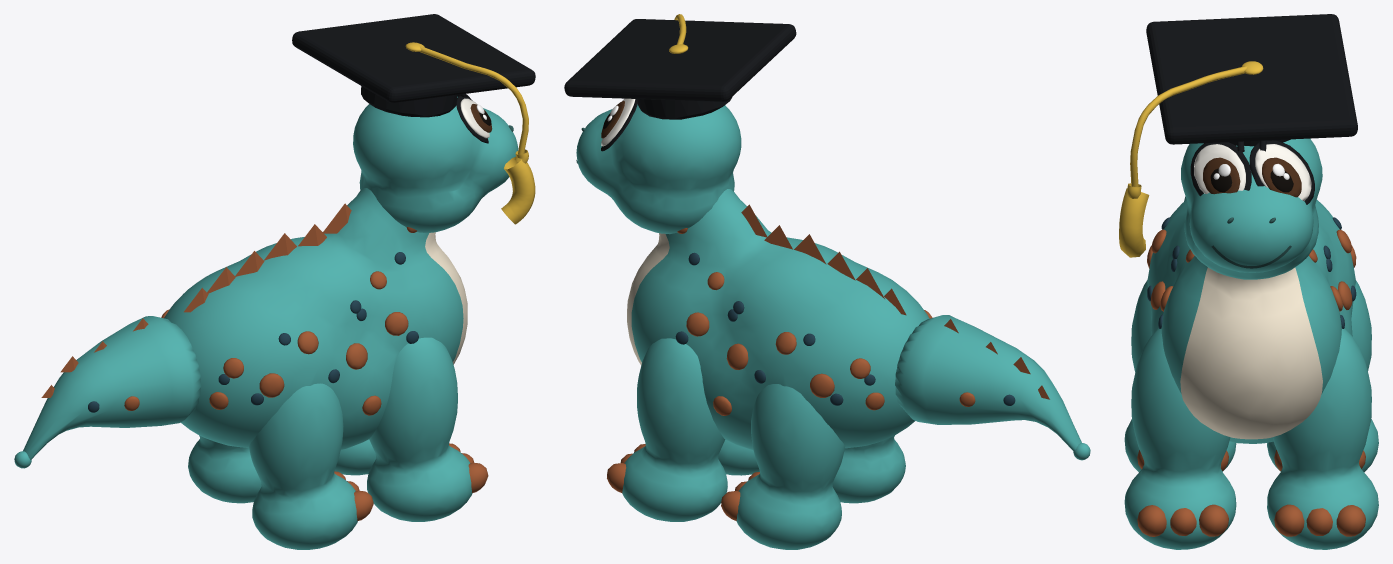
The model's file is cdutdino-guide.glb.
3 renders of one model, left to right at view 1: azimuth 30°, elevation 25°; view 2: azimuth 150°, elevation 25°; view 3: azimuth 270°, elevation 25°, orthographic. The views are drawn at different scales.
Parts seen in each view (by area): view 1: body sculpt, head sculpt, soft leg, tapered tail, soft leg.002, square academic cap, soft leg.003, cap crown, tassel skirt, gold cord, ivory front, soft leg.001; view 2: body sculpt, head sculpt, soft leg.001, tapered tail, square academic cap, soft leg.003, soft leg.002, cap crown, ivory front, soft leg; view 3: square academic cap, ivory front, soft leg, soft leg.001, head sculpt, body sculpt, soft leg.003, soft leg.002, tassel skirt, gold cord, eye white.001, eye white (+11 smaller).
Part boxes in pixels (box(x1,y1,x2,y2)): body sculpt: box(164, 188, 463, 449); head sculpt: box(353, 96, 518, 233); soft leg: box(367, 337, 472, 521); tapered tail: box(23, 316, 201, 459); soft leg.002: box(249, 383, 357, 549); square academic cap: box(292, 14, 535, 103); soft leg.003: box(188, 435, 261, 503); cap crown: box(361, 86, 457, 117); tassel skirt: box(501, 156, 535, 224); gold cord: box(419, 45, 528, 154); ivory front: box(425, 232, 467, 364); soft leg.001: box(334, 439, 376, 475); body sculpt: box(631, 189, 929, 450); head sculpt: box(576, 104, 741, 234); soft leg.001: box(622, 338, 727, 521); tapered tail: box(895, 315, 1081, 451); square academic cap: box(564, 19, 796, 101); soft leg.003: box(736, 384, 845, 549); soft leg.002: box(832, 435, 905, 503); cap crown: box(637, 96, 732, 119); ivory front: box(627, 233, 669, 365); soft leg: box(718, 439, 759, 475); square academic cap: box(1146, 14, 1357, 144); ivory front: box(1180, 267, 1322, 439); soft leg: box(1124, 328, 1236, 549); soft leg.001: box(1267, 328, 1378, 549); head sculpt: box(1181, 138, 1322, 279); body sculpt: box(1147, 200, 1355, 443); soft leg.003: box(1267, 280, 1378, 472); soft leg.002: box(1124, 280, 1236, 471); tassel skirt: box(1119, 188, 1149, 257); gold cord: box(1130, 66, 1247, 186); eye white.001: box(1255, 144, 1311, 200); eye white: box(1194, 144, 1245, 193).
Size of the model in its own units: 4.98 by 4.25 by 2.01.
